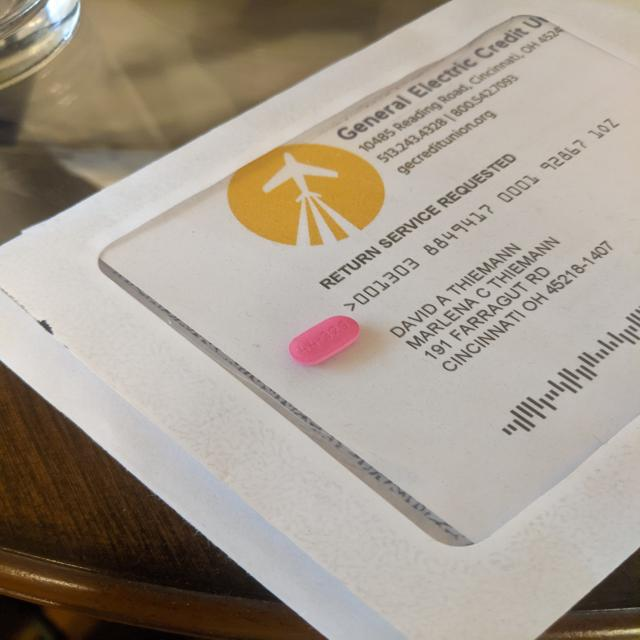non-organic waste: (287, 315, 361, 366)
